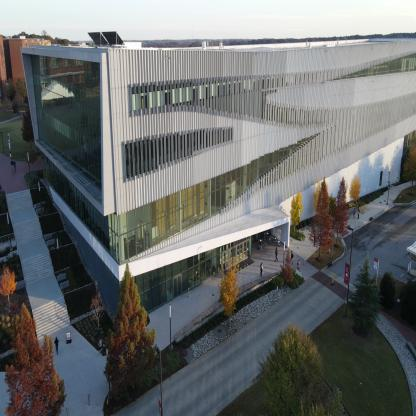Hunt Library: (9, 16, 415, 325)
